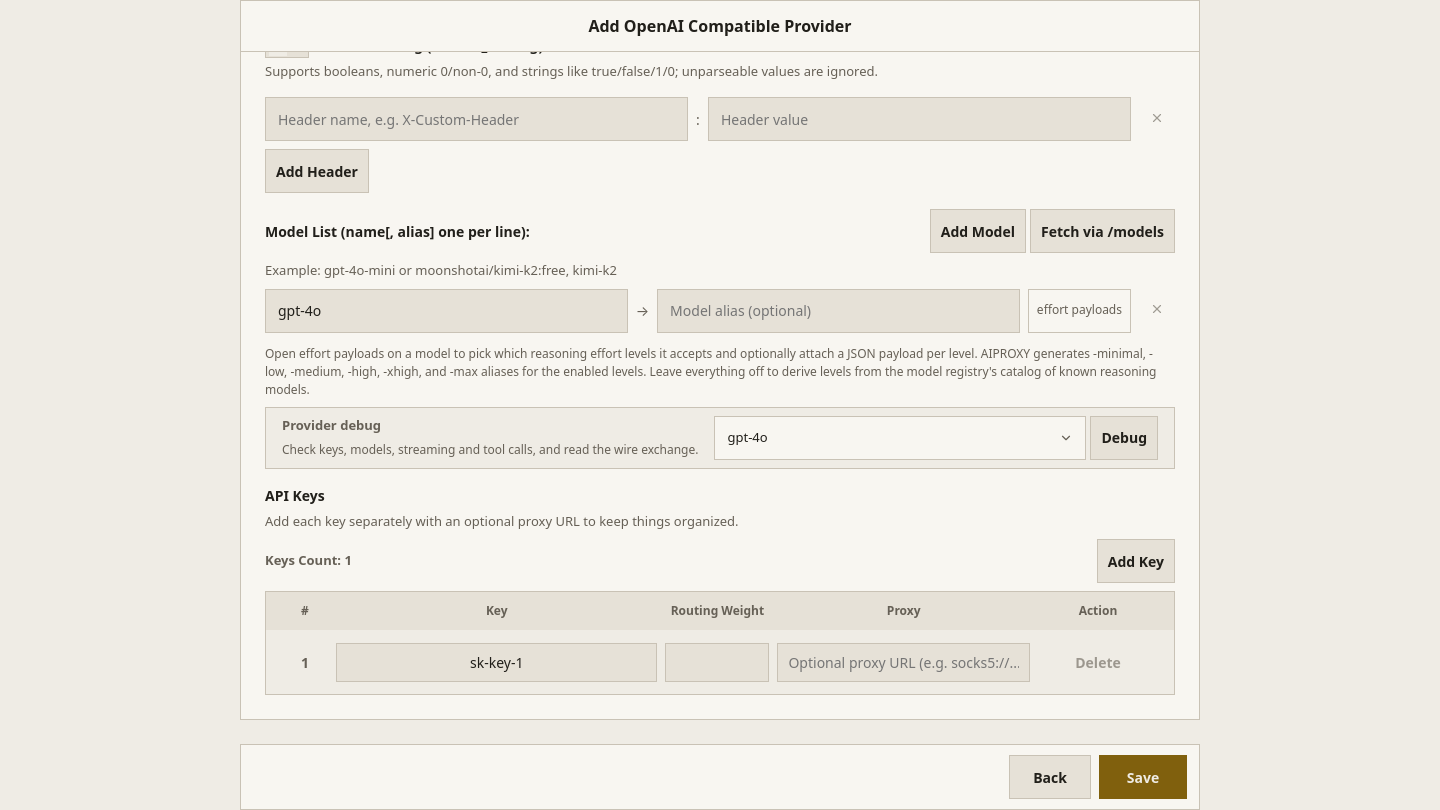
Test: AiProvidersOpenAIEditPage › offers the debug bench in place of the old connection test
(page scrolled)
expect the text "Provider debug" is shown: met, box [282, 416, 381, 434]
Click the button "Debug". click: coordinates (1124, 438)
box: [1090, 416, 1158, 460]
(page scrolled)
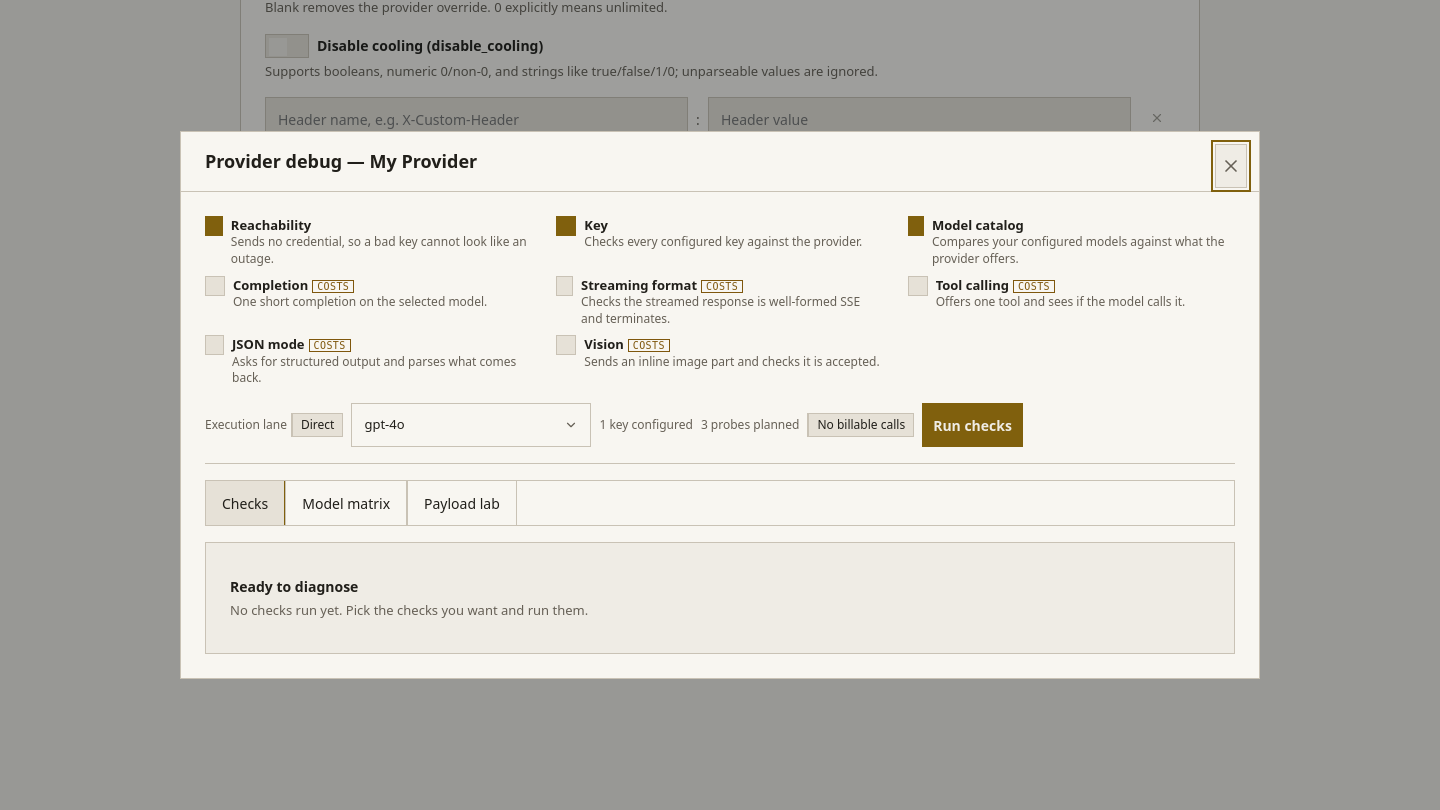
expect the dialog "Provider debug" is shown: met, box [180, 131, 1260, 679]
